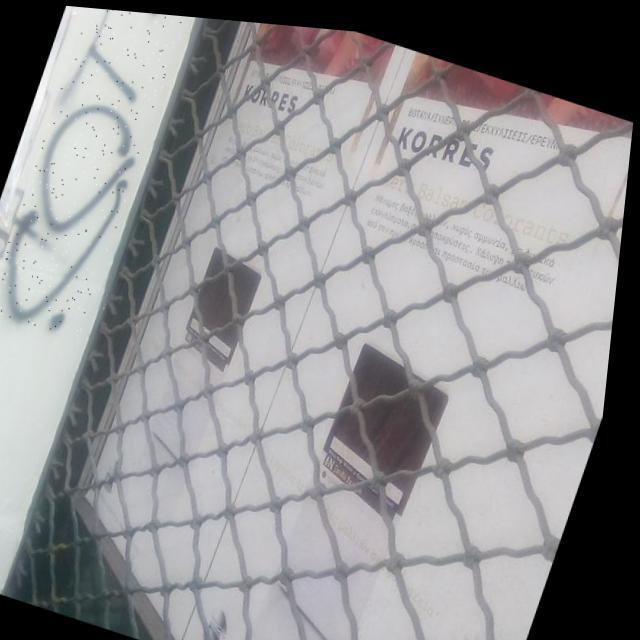-: (0, 1, 196, 345), (0, 236, 4, 429)
